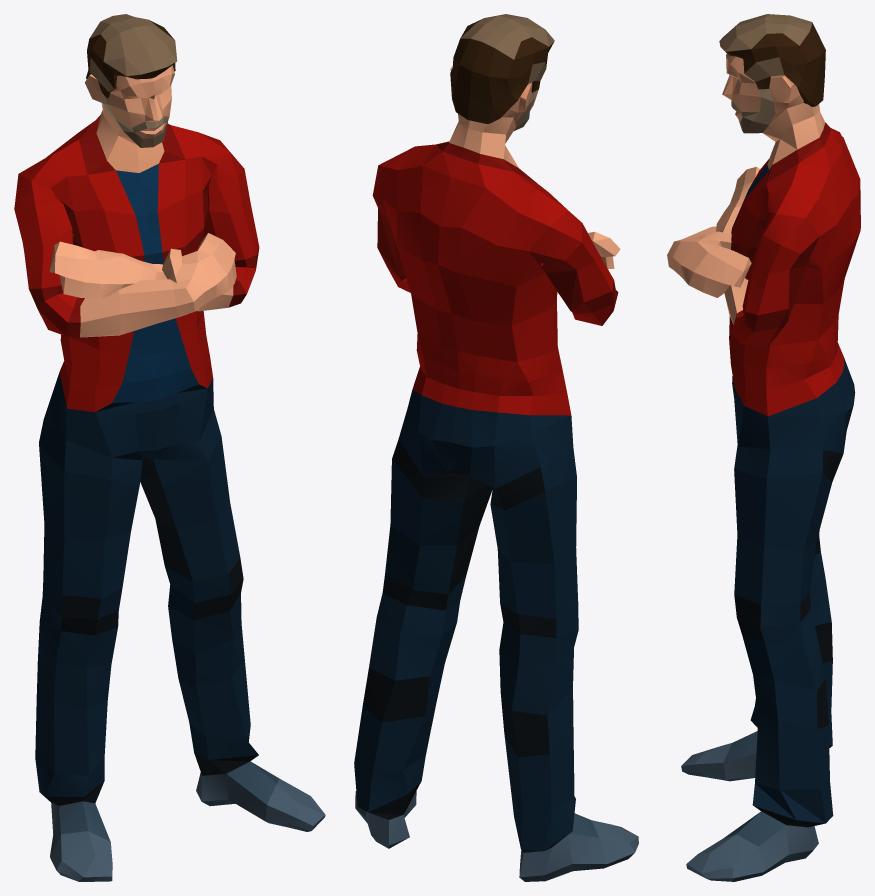
The model's file is man_1.dae.
3 views of the same model, side by side, from view 1: azimuth 30°, elevation 25°; view 2: azimuth 150°, elevation 25°; view 3: azimuth 270°, elevation 25° (orthographic). The views are drawn at different scales.
Visible parts, largest first — view 1: huitugou_2139_403; view 2: huitugou_2139_403; view 3: huitugou_2139_403.
Boxes of the visible parts, x1,y1,x2,y2 form: huitugou_2139_403: (14, 14, 325, 881); huitugou_2139_403: (354, 14, 638, 881); huitugou_2139_403: (667, 14, 860, 881).
Bounding box in the file's own units: 0.6267 × 0.4031 × 1.81.
Materials: 1 (1 with a texture image).
